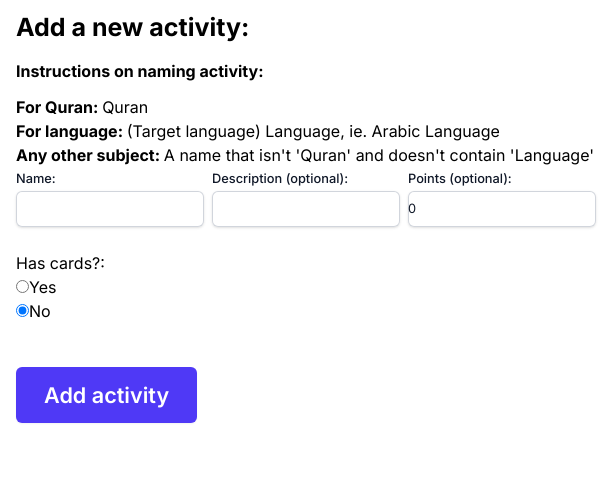
it: Add activity › should not create pre-existing user activity
In the field labelled "Name:": (110, 208) [16,190,204,226], type "Quran"
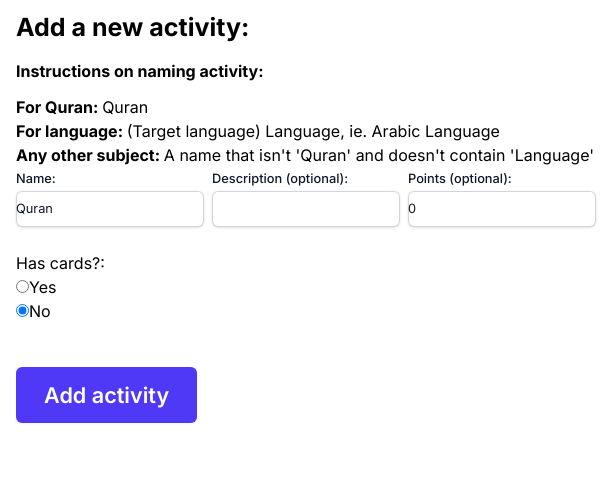
In the field labelled "Description (optional):": (306, 208) [212,190,400,226], type "Quran memorization"
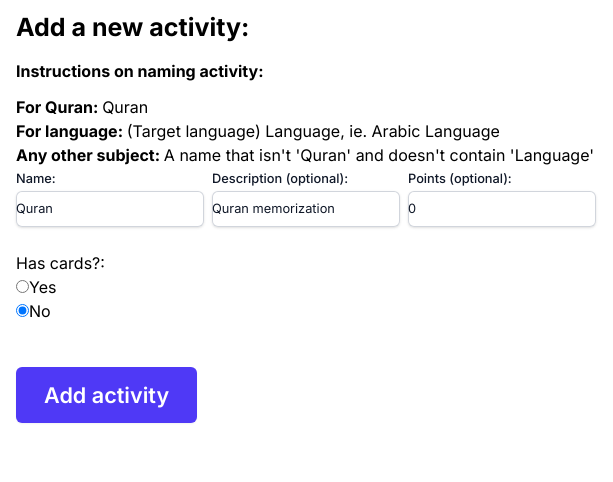
Replace the text in the number field labelled "Points (optional):" with "15": (502, 208) [408,190,596,226]
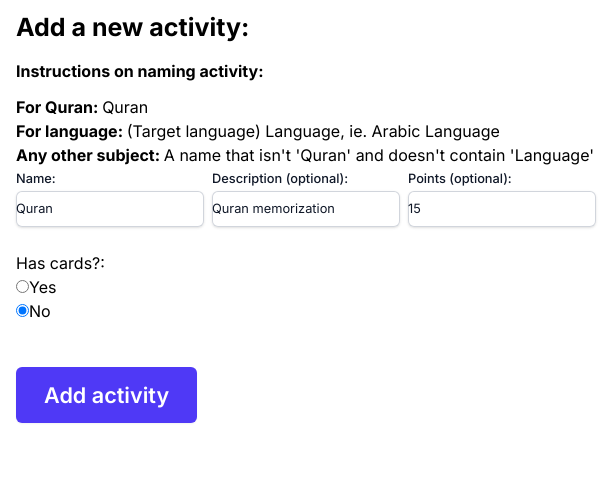
Click the radio button labelled "Yes": click(22, 286) [16,280,29,292]
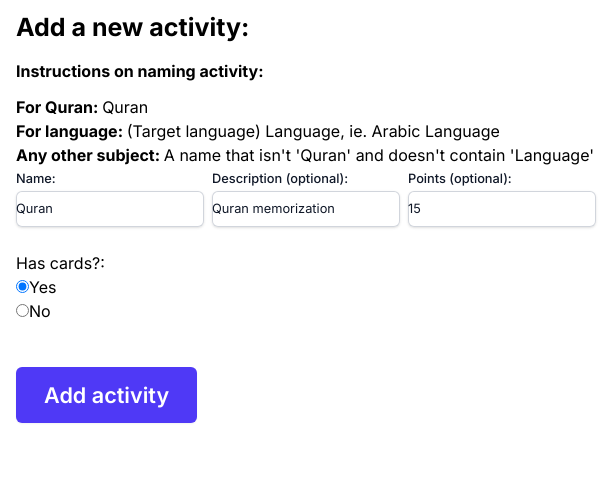
Click the button with test id "add-activity-btn": click(107, 394) [16,366,197,422]
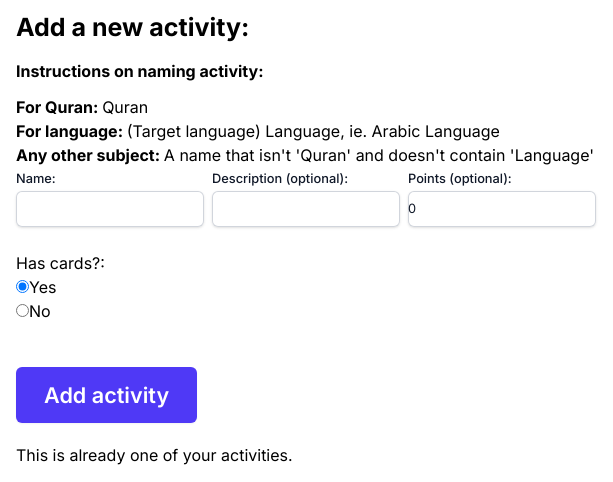
Now the text with test id "add-activity-submit-message" reads "This is already one of your activities.", box [16,444,293,464]
Now the field labelled "Name:" is empty, box [16,190,204,226]
Now the field labelled "Description (optional):" is empty, box [212,190,400,226]
